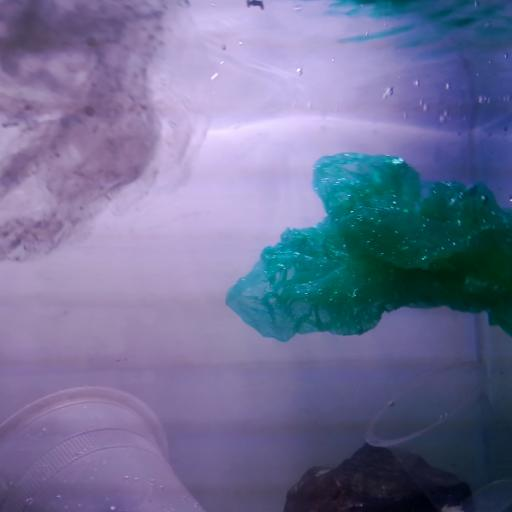plastic_bag: (224, 150, 512, 343), (1, 0, 170, 264)
plastic_cup: (0, 384, 208, 512), (361, 358, 512, 512)
